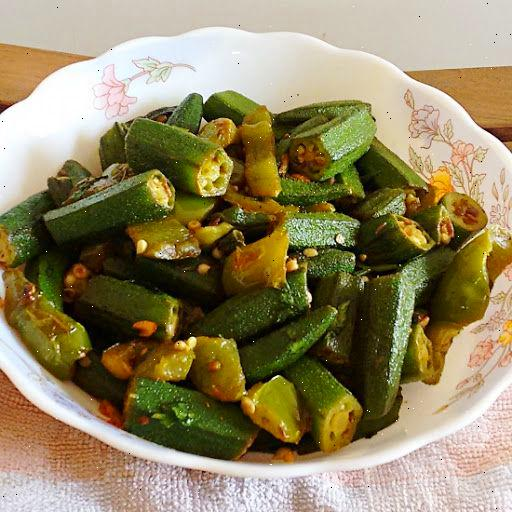bhindi: (102, 115, 406, 449)
